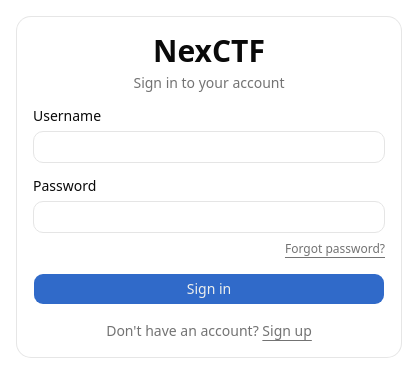
Test: shows the disabled-account card
Type "alice" into the field labelled "Username" at (209, 147), box left=33, top=131, right=385, bottom=163
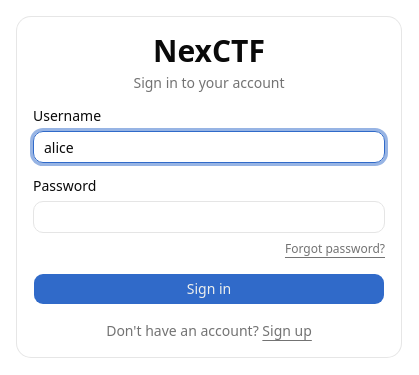
Type "hunter2" into the password field labelled "Password" at (209, 217), box left=33, top=201, right=385, bottom=233
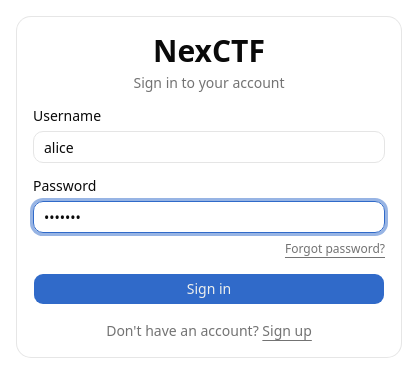
Click the button "Sign in" at (209, 289), box left=33, top=273, right=385, bottom=305
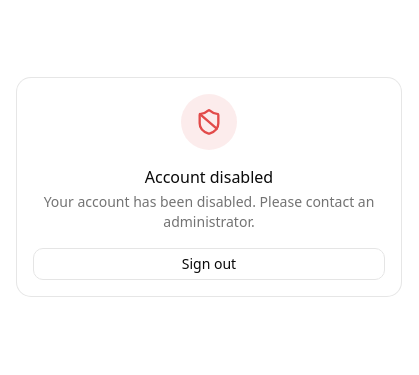
Check: the text "Account disabled" is shown, box left=145, top=166, right=273, bottom=188
Check: the button "Sign out" is shown, box left=33, top=248, right=385, bottom=280
